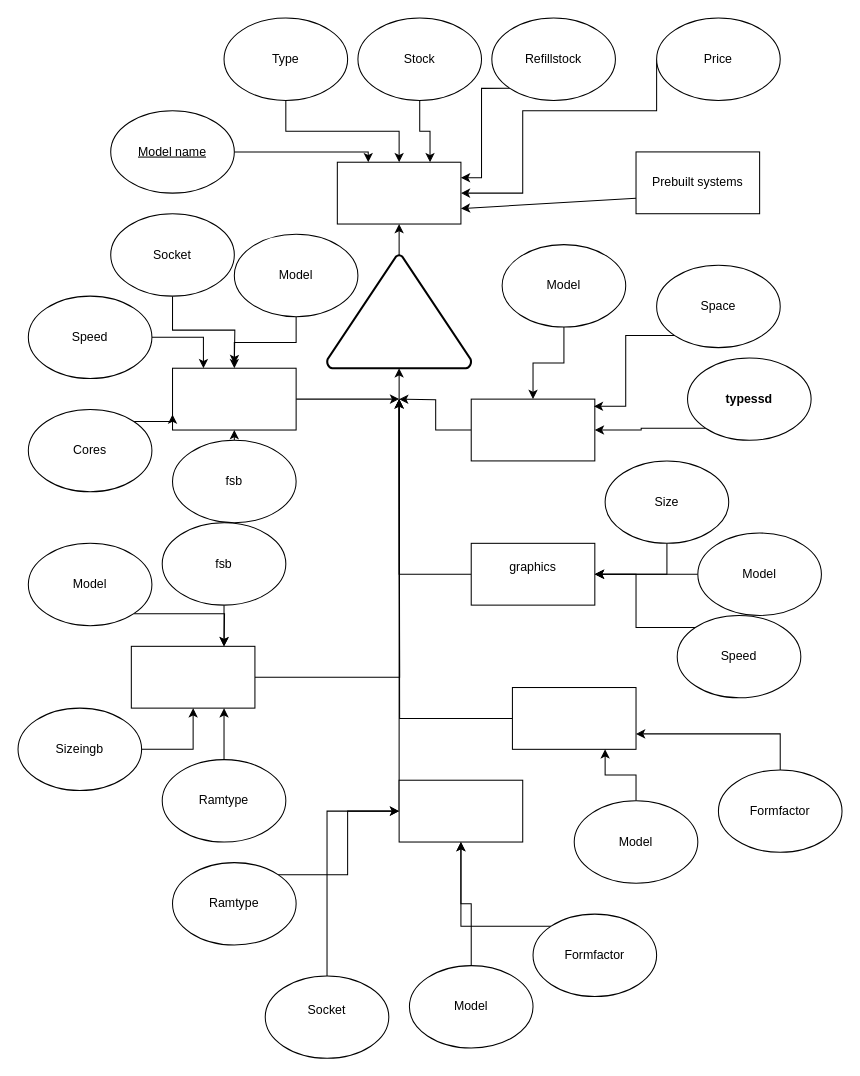
The diagram is 860 pixels wide and 1076 high, and some of its shapes have lost their labels. Each missing label, with the centre of its shape:
"Case" goes at (573,717).
"CPU" goes at (233,398).
"Is a (type)" goes at (398,311).
"Motherboard" goes at (460,810).
"Parts" goes at (398,192).
"Ram" goes at (192,676).
"Storage" goes at (532,429).
